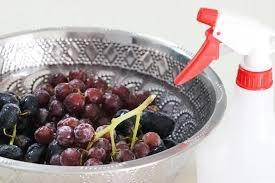Grape Rotten: (1, 69, 170, 166)
